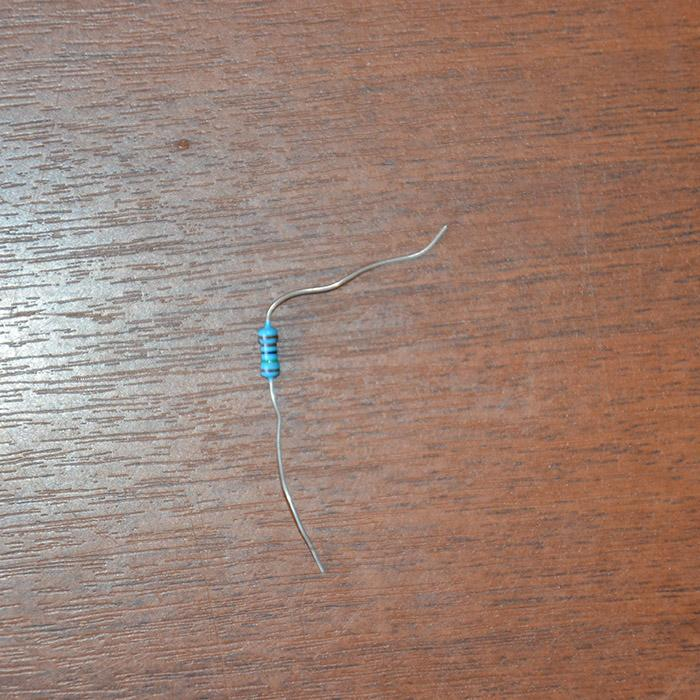resistor: (256, 323, 281, 380)
